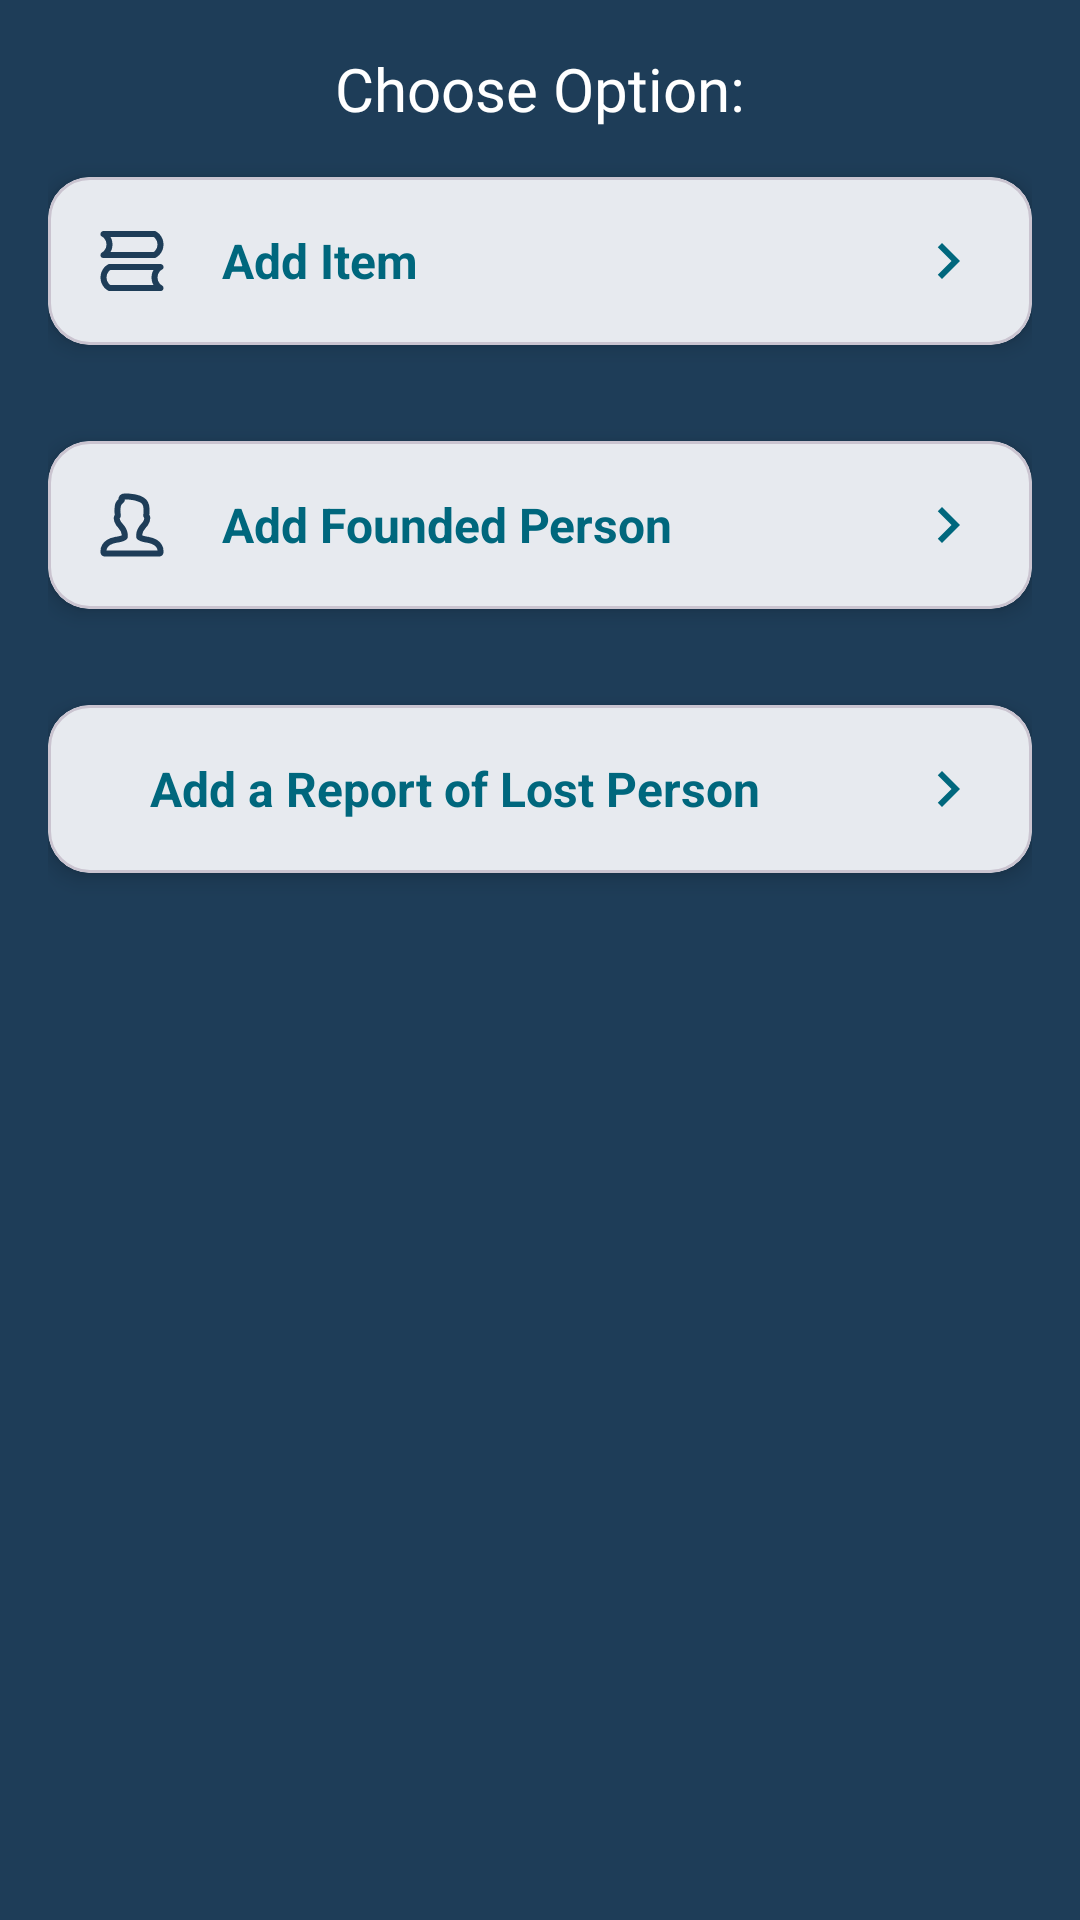

Icon click points for this 1080×1920 phone screenshot, format [x,y]:
chevron right: [949,261], [949,525], [949,789]
